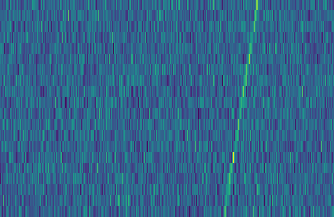signal: (221, 0, 264, 217)
